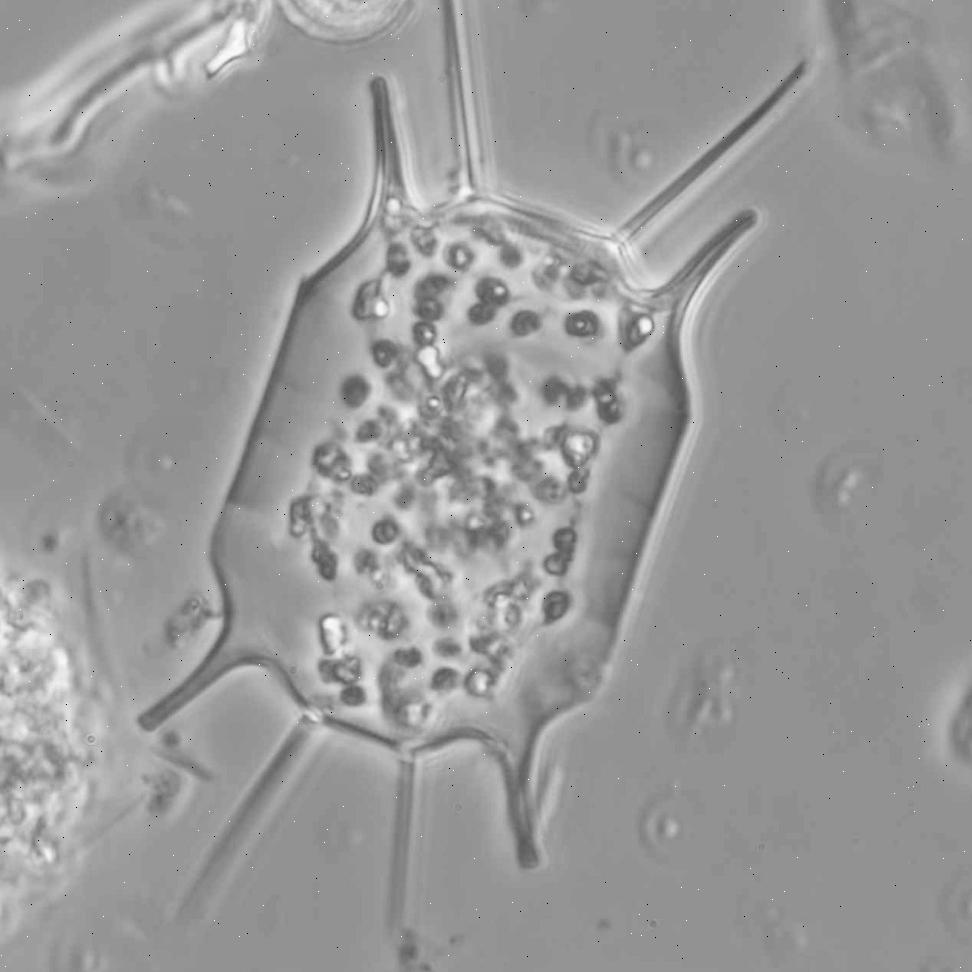odontella_mobiliensis: (136, 0, 821, 944)
